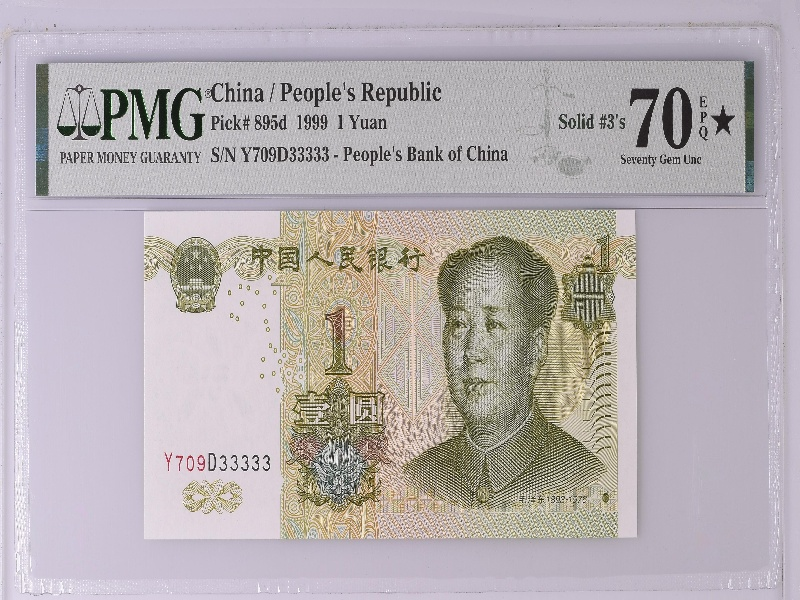papernote: (141, 206, 640, 542)
